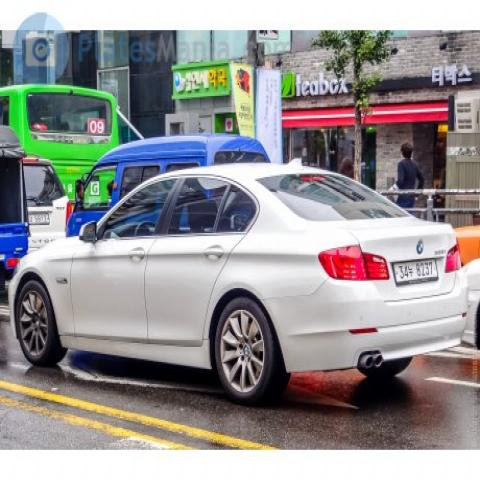LP: (389, 246, 448, 296)
